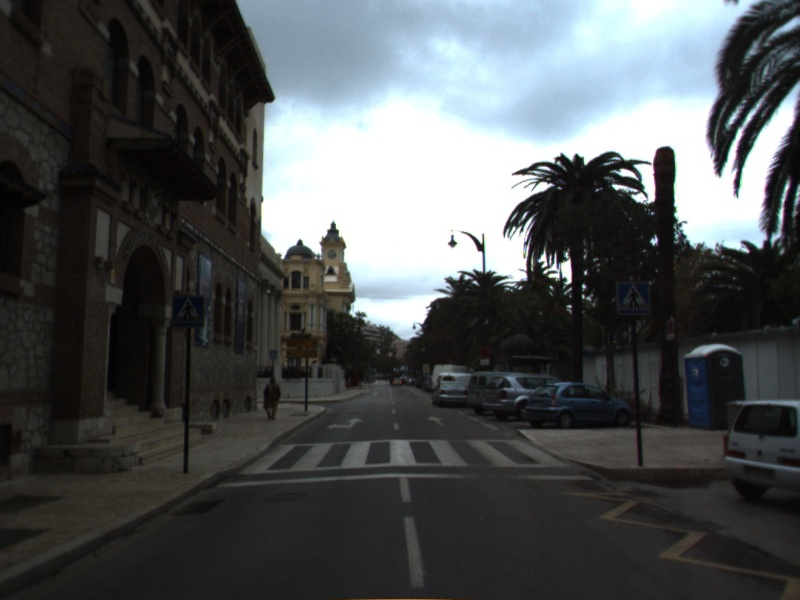STRAIGHT: (425, 414, 446, 428)
STRAIGHT_LEFT: (324, 416, 365, 432)
